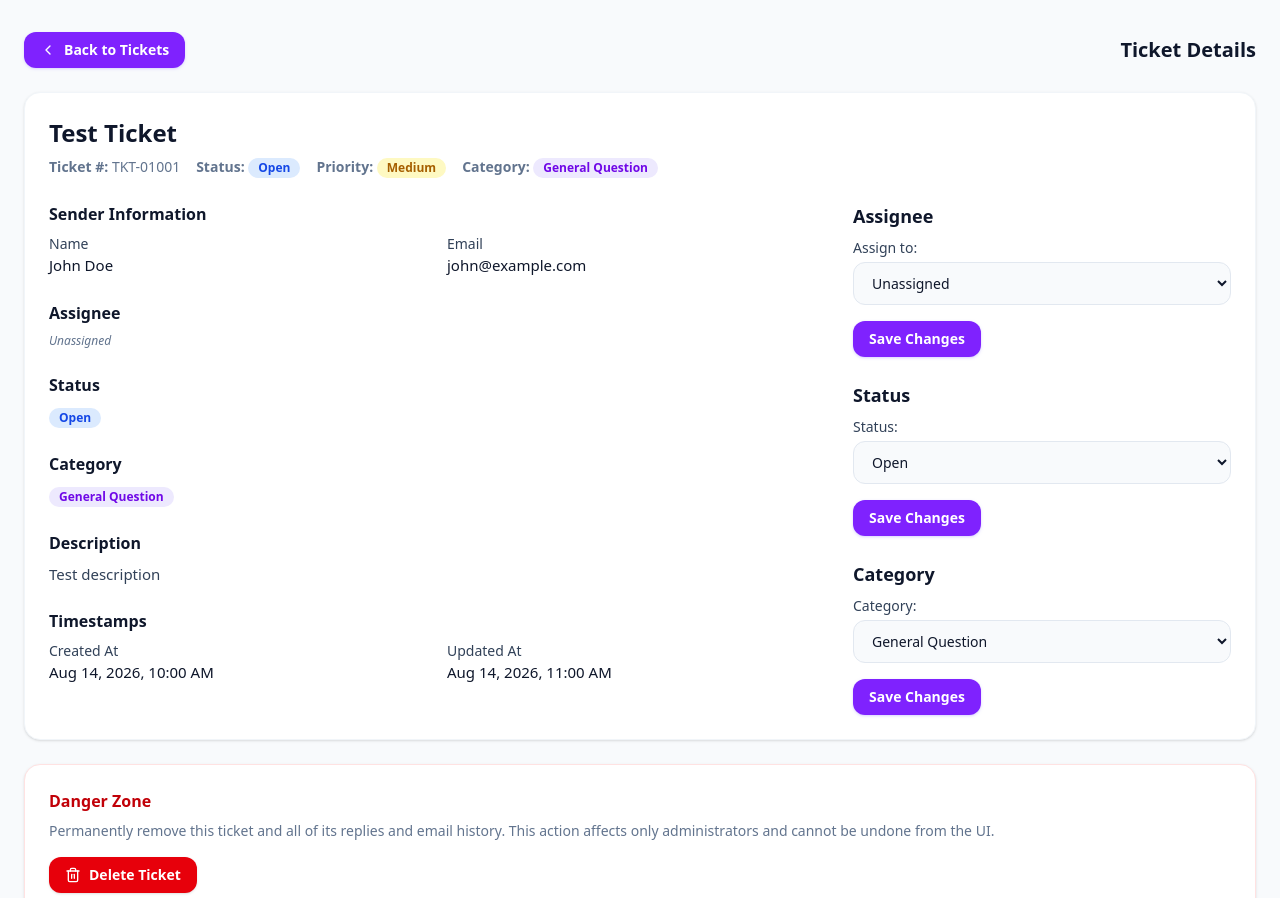
Scenario: TicketDetailsPage › shows error when assignment fails
Expected: the heading "Test Ticket" is shown, [49,116,177,149]
Select "Agent One (agent1@example.com)" in the dropdown with test id "assign-to-select" at x=1042, y=284, box [853,262,1231,305]
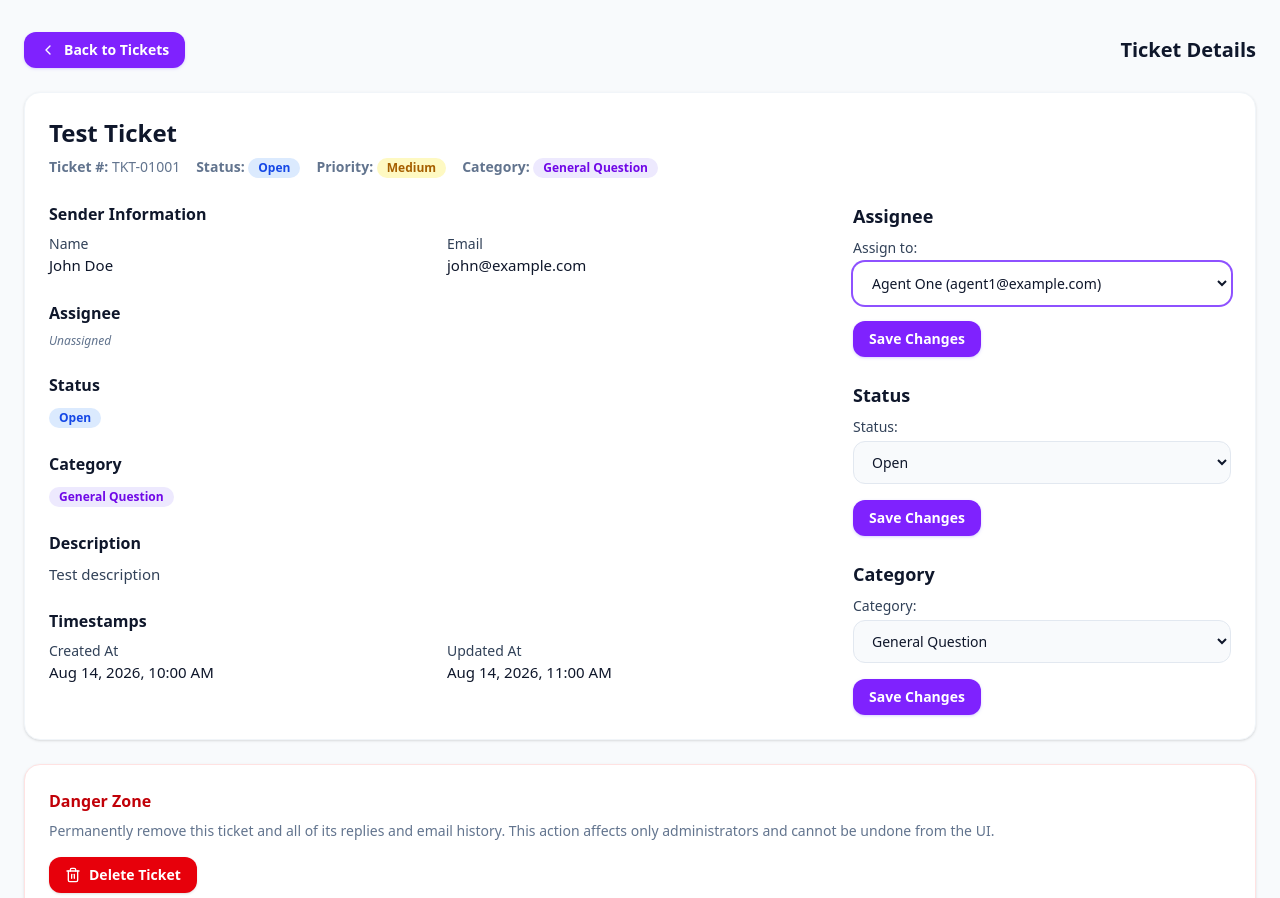
Click the button "Save Changes" below "Assign to:" at x=917, y=339, box [853,321,981,357]
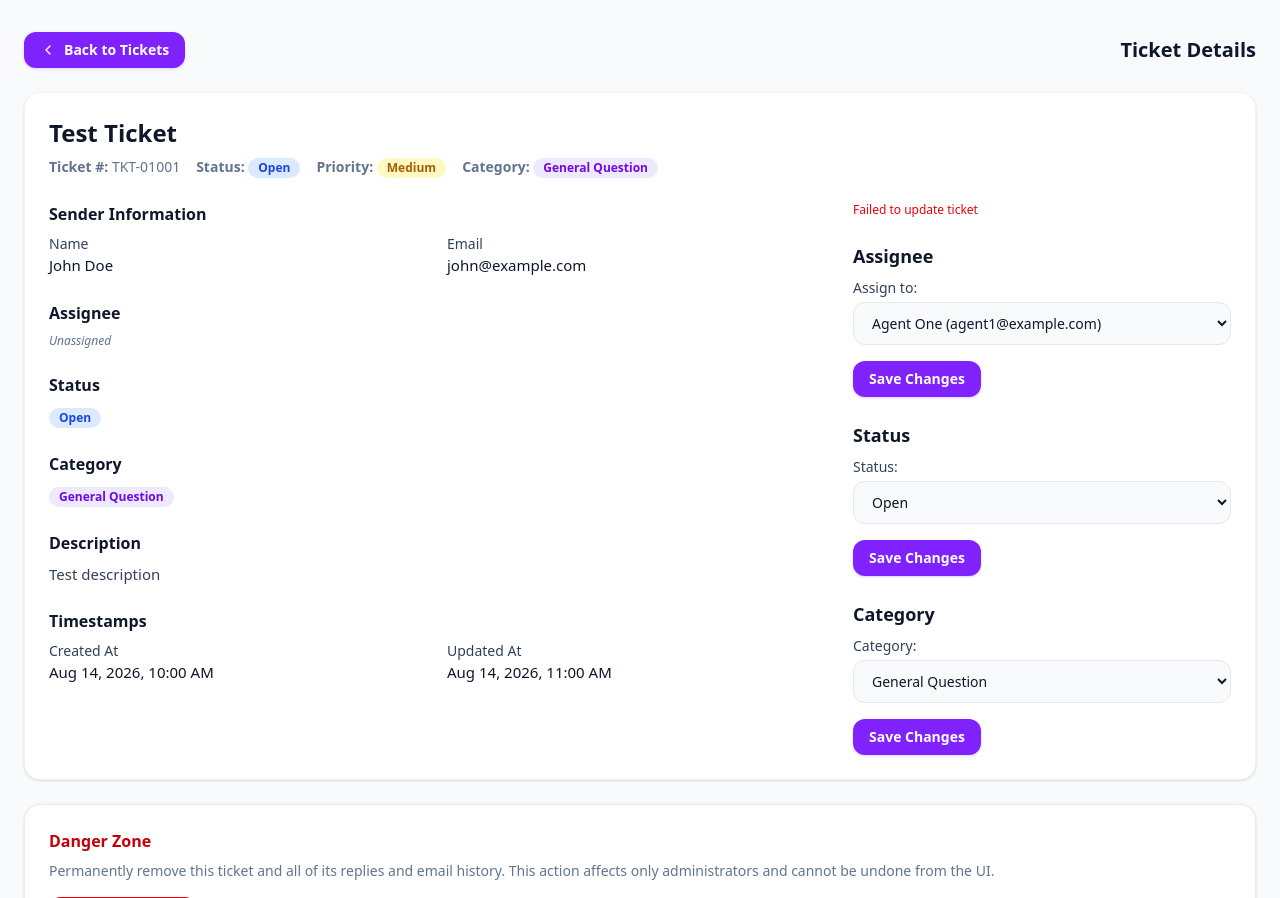
Result: the text "Failed to update ticket" is shown at [853,201,978,218]
